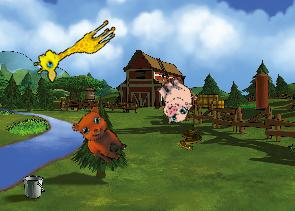bear: (66, 101, 137, 168)
giraffe: (29, 9, 120, 86)
pig: (147, 71, 202, 127)
